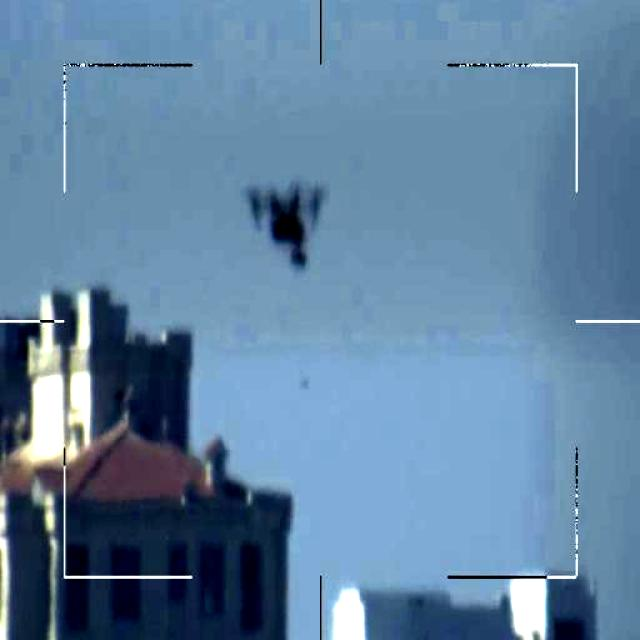bird: (249, 172, 324, 264)
